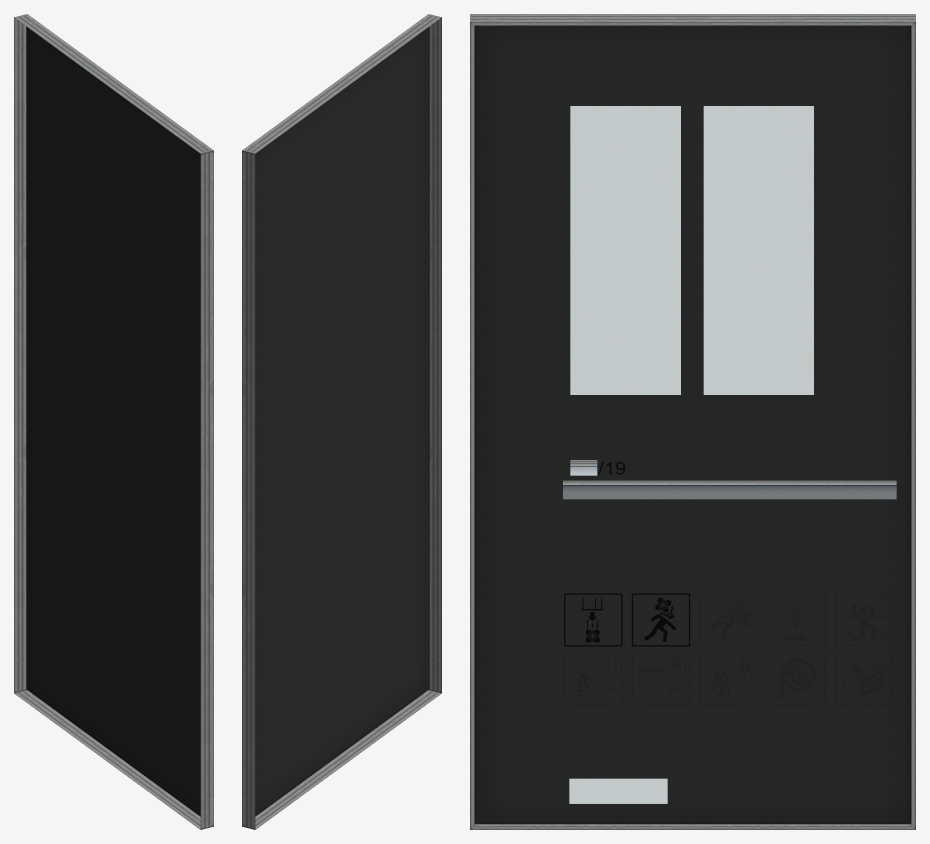
The model's file is signage_num00.glb.
The picture shows the model from 3 angles, left to right: view 1: azimuth 30°, elevation 25°; view 2: azimuth 150°, elevation 25°; view 3: azimuth 270°, elevation 25°; orthographic projection. The views are drawn at different scales.
Visible parts, largest first — view 1: signage_num00_reference.smd; view 2: signage_num00_reference.smd; view 3: signage_num00_reference.smd.
Boxes of the visible parts, box(x1,y1,x2,y2) form: signage_num00_reference.smd: box(14, 14, 213, 829); signage_num00_reference.smd: box(242, 14, 441, 829); signage_num00_reference.smd: box(470, 14, 915, 829).
Size of the model in its own units: 0.0762 by 3.66 by 1.83.
Materials: 6 (6 with a texture image).
